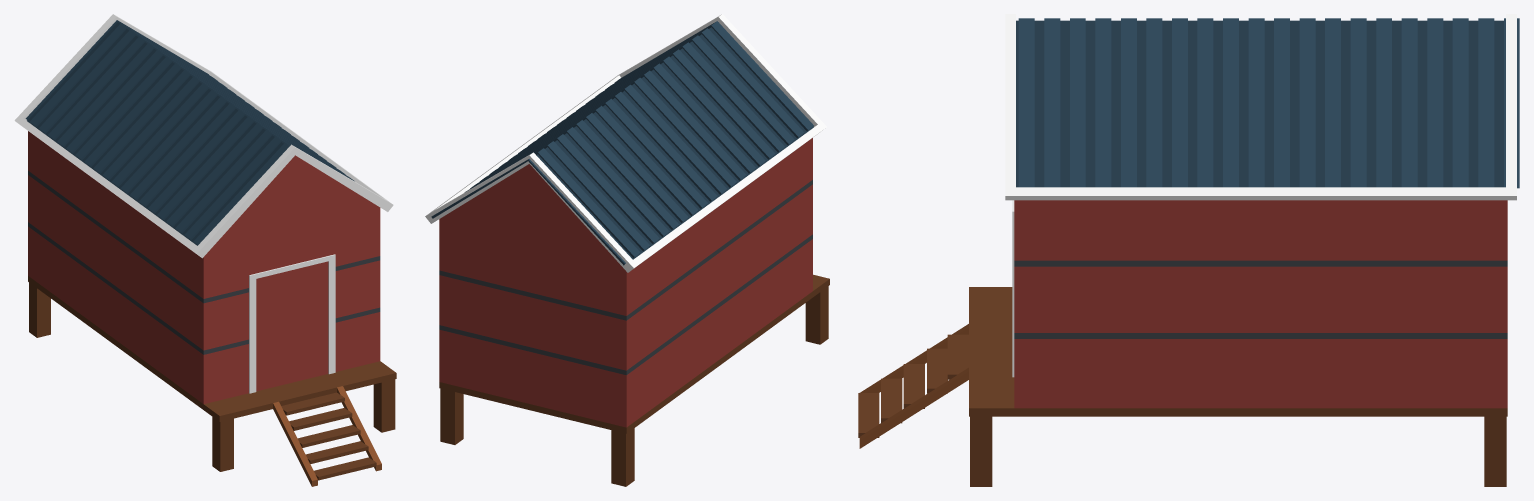
The model's file is Hen House_1.fbx.
3 views of the same model, side by side, from view 1: azimuth 30°, elevation 25°; view 2: azimuth 150°, elevation 25°; view 3: azimuth 270°, elevation 25° (orthographic). The views are drawn at different scales.
Visible parts, largest first — view 1: Hen House_1; view 2: Hen House_1; view 3: Hen House_1.
Boxes of the visible parts, x1=… form: Hen House_1: x1=14, y1=14, x2=396, y2=486; Hen House_1: x1=425, y1=14, x2=829, y2=486; Hen House_1: x1=858, y1=14, x2=1519, y2=486.
Bounding box in the file's own units: 225 × 321 × 466.
